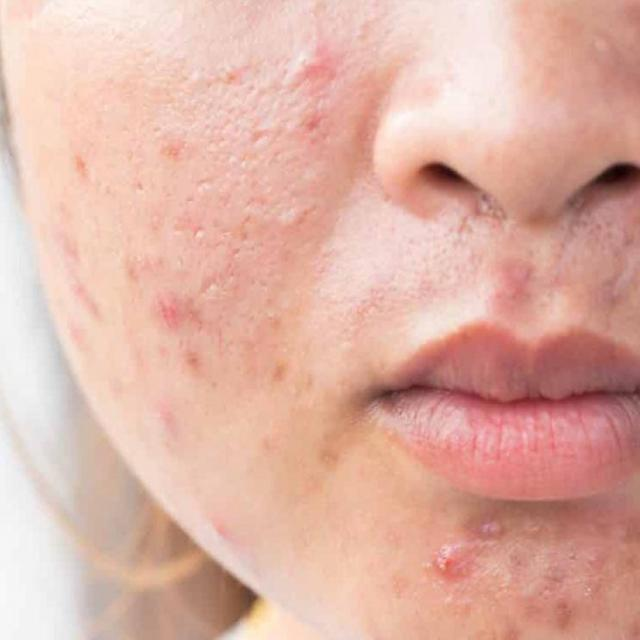blackheads: (148, 281, 206, 336), (539, 580, 581, 621), (292, 36, 322, 80), (68, 149, 101, 187), (502, 254, 536, 289), (430, 539, 457, 579), (471, 517, 508, 543), (270, 354, 292, 386)
